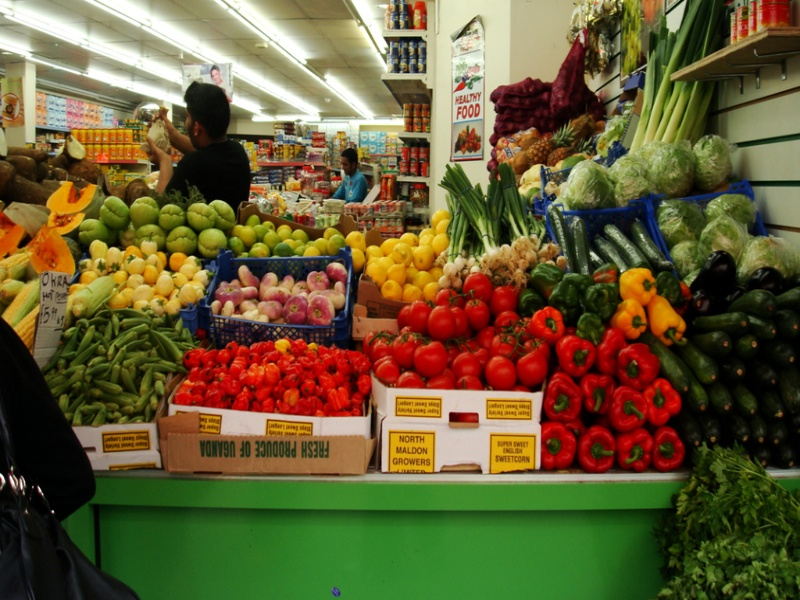person: (162, 81, 250, 209), (330, 143, 368, 205)
